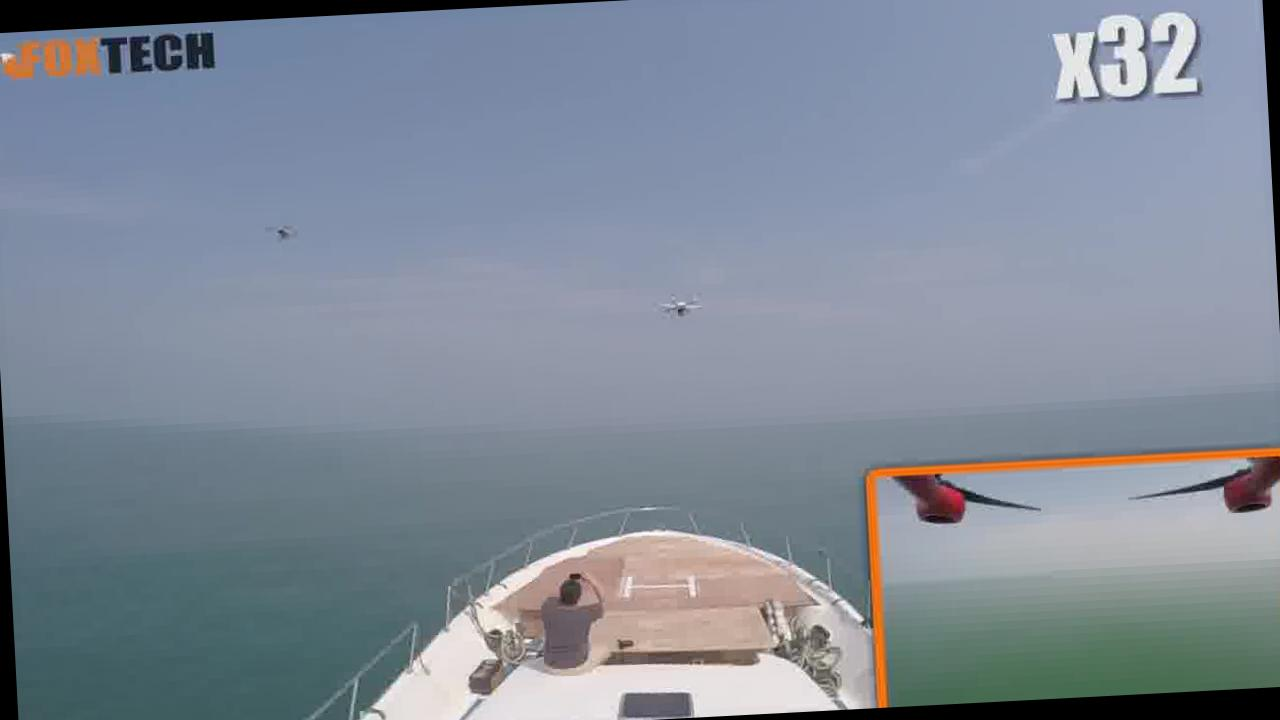drone: (637, 279, 728, 329), (244, 202, 311, 254)
